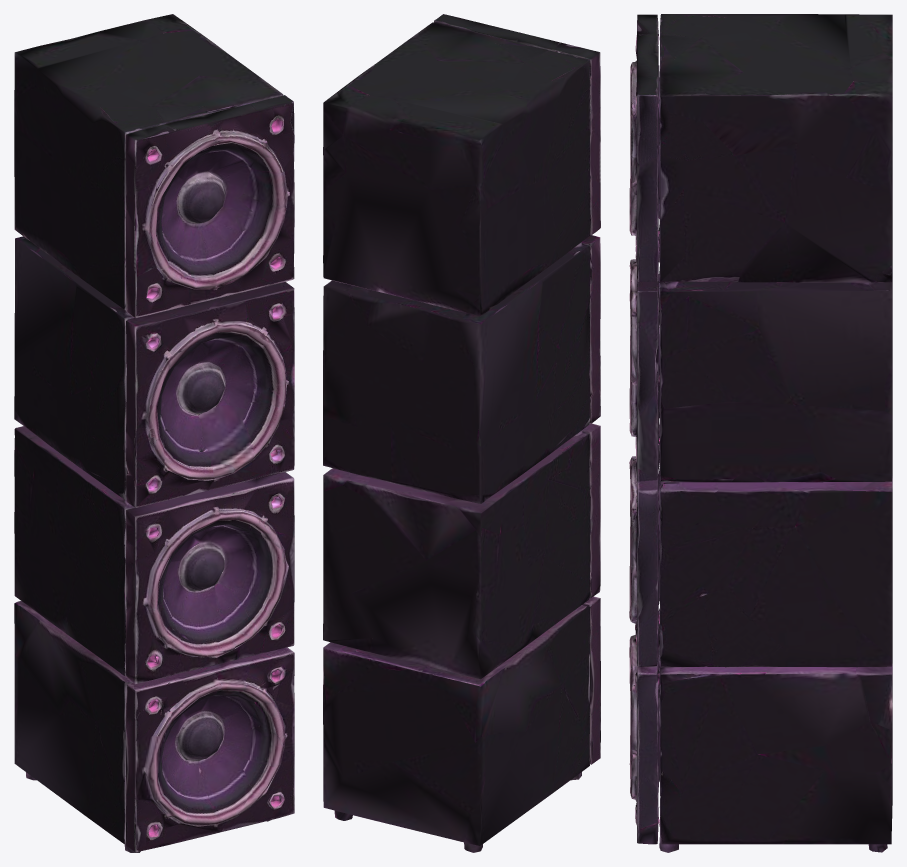
File: bhSpeakerStackB.fcbfbbce.glb
3 renders of one model, left to right at view 1: azimuth 30°, elevation 25°; view 2: azimuth 150°, elevation 25°; view 3: azimuth 270°, elevation 25°, orthographic. The views are drawn at different scales.
Size of the model in its own units: 0.4387 by 1.9 by 0.597.
Materials: 1 (1 with a texture image).
